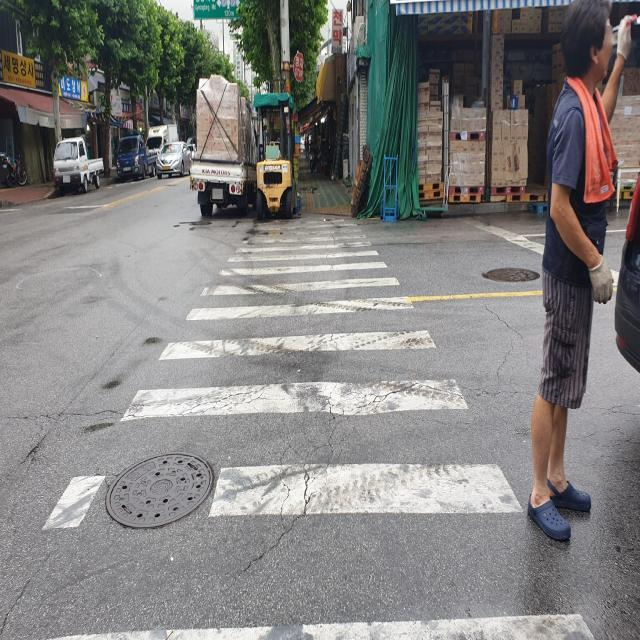횡단보도: (40, 215, 598, 640)
